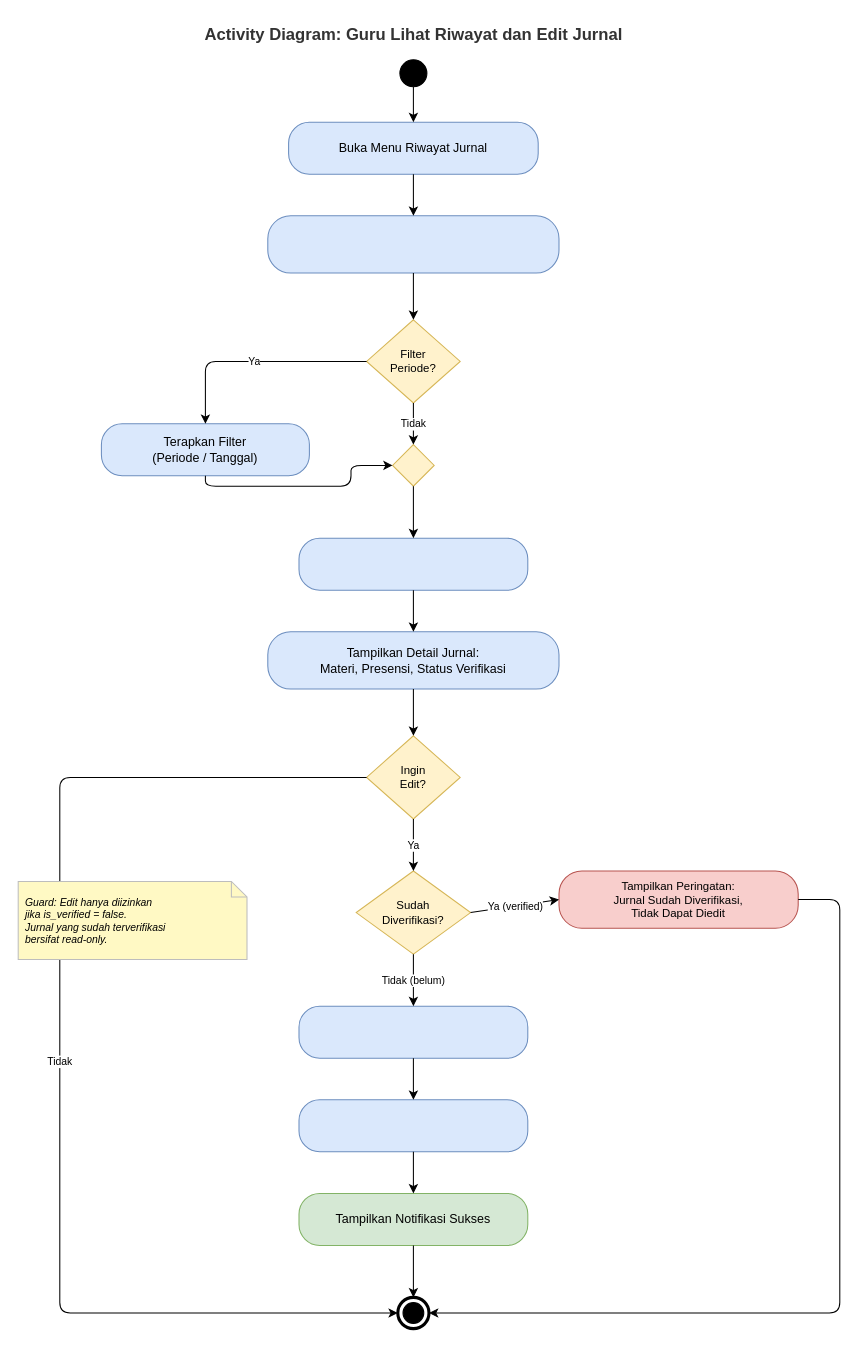
This 866x1348 diagram has some shape labels left out. Each missing label, with the centre of its shape:
Edit Form Jurnal (Materi, Catatan): point 413,1031
Pilih Jurnal dari Daftar: point 413,563
Simpan Perubahan ke Database (UPDATE): point 413,1125
Tampilkan Daftar Jurnal Milik Guru (berdasarkan guru_id): point 413,244
